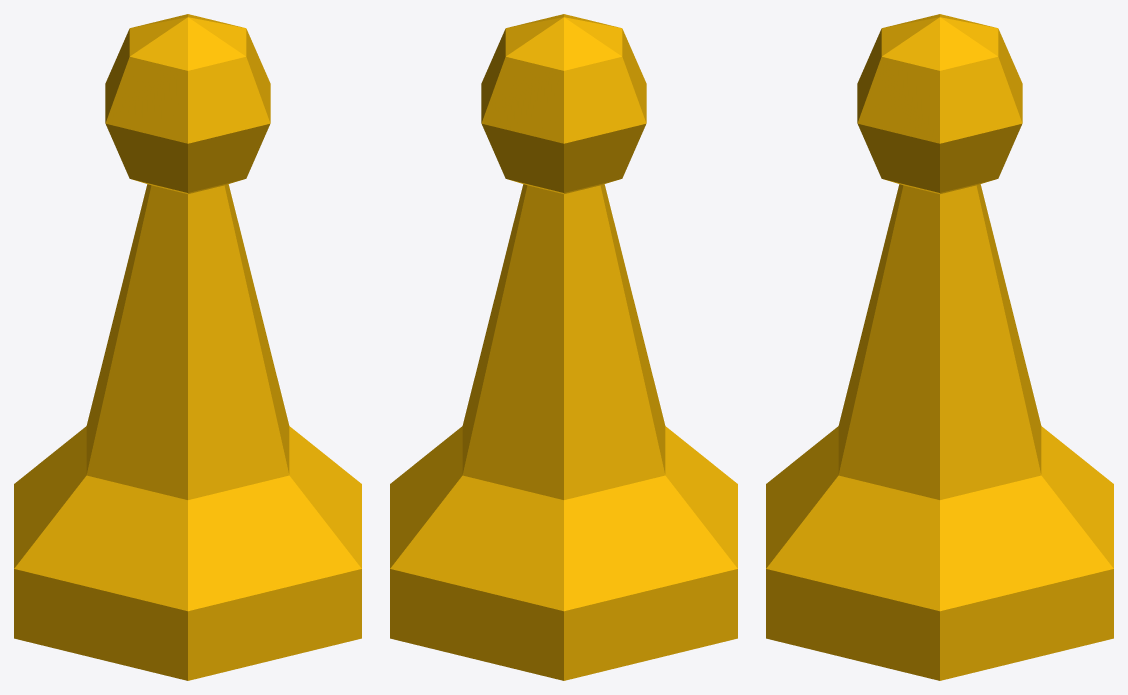
Rendered from Boardgame_Player_Piece_General_Yellow_01.fbx.
The picture shows the model from 3 angles, left to right: view 1: azimuth 30°, elevation 25°; view 2: azimuth 150°, elevation 25°; view 3: azimuth 270°, elevation 25°; orthographic projection.
Visible parts, largest first — view 1: Model; view 2: Model; view 3: Model.
Boxes of the visible parts, box(x1,y1,x2,y2) form: Model: box(14, 14, 361, 680); Model: box(390, 14, 737, 680); Model: box(766, 14, 1113, 680).
Size of the model in its own units: 187 by 297 by 162.
